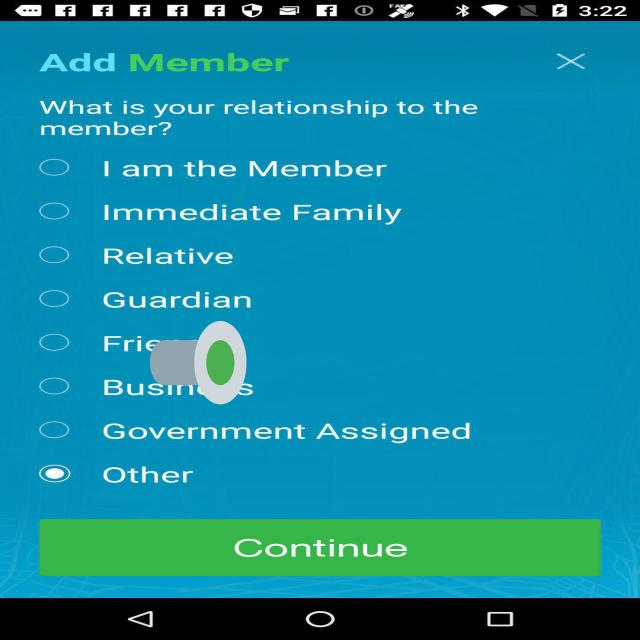social proof: (150, 286, 246, 440)
